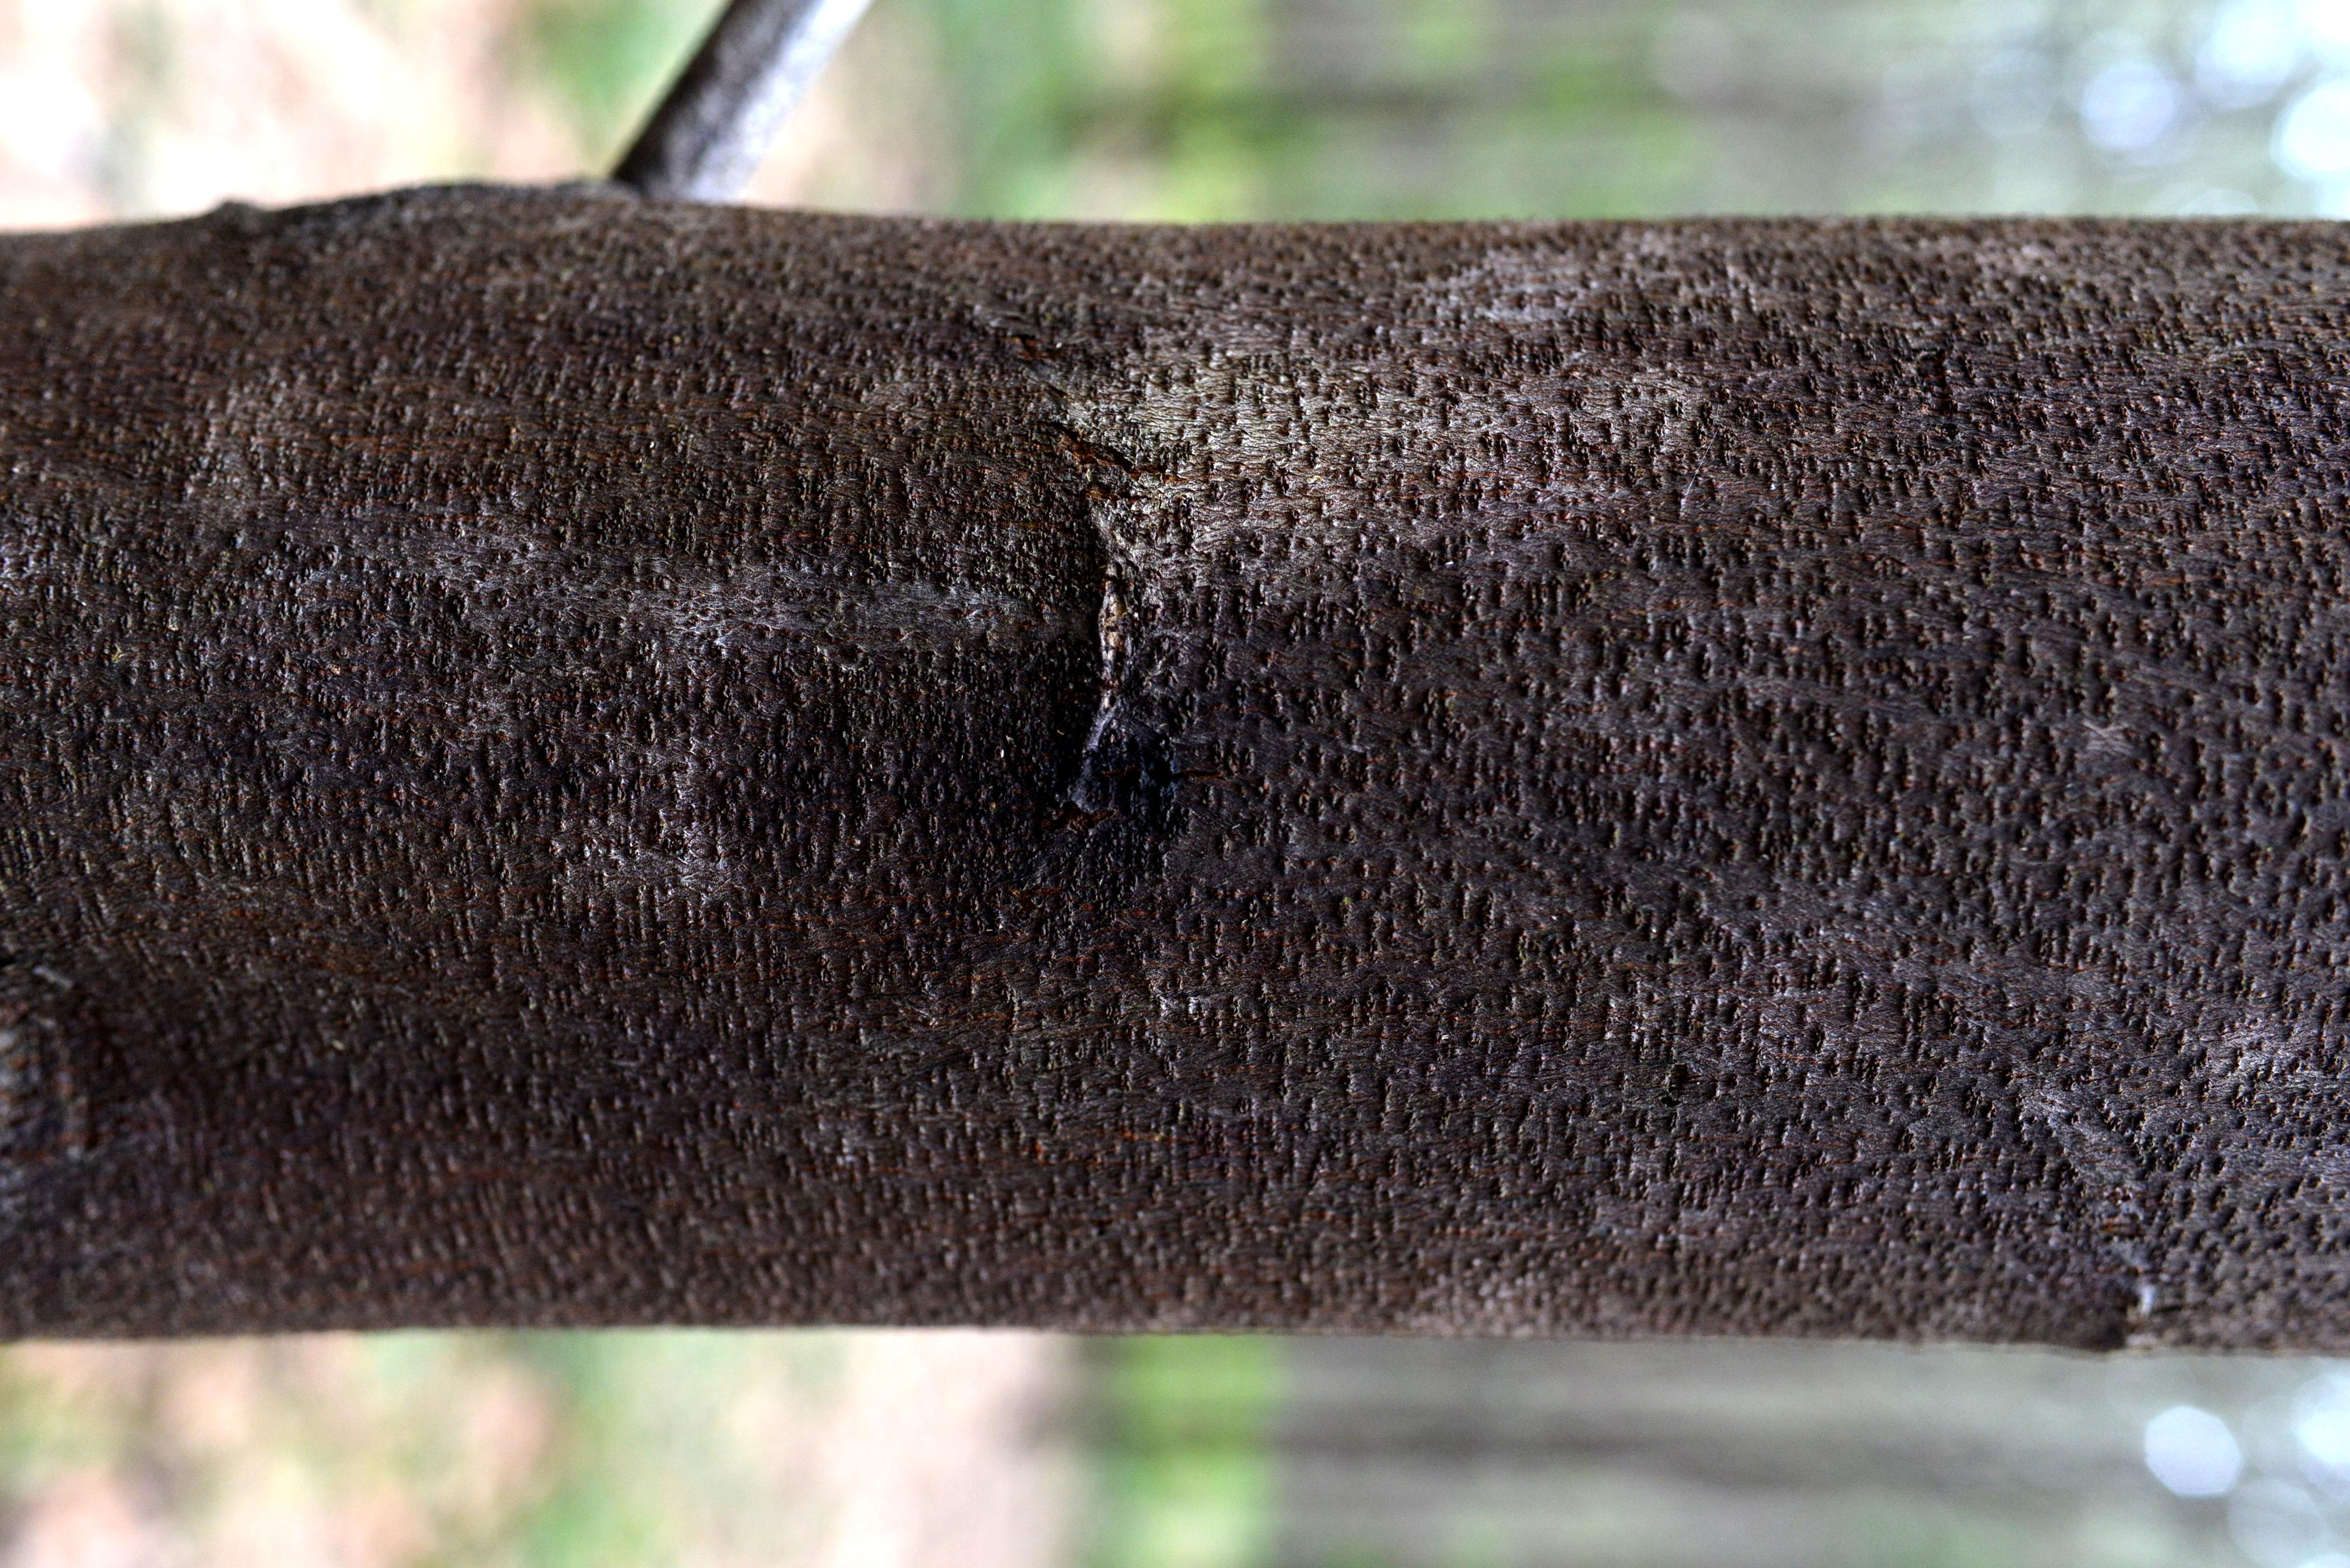Stem Borer: (933, 556, 1225, 912)
